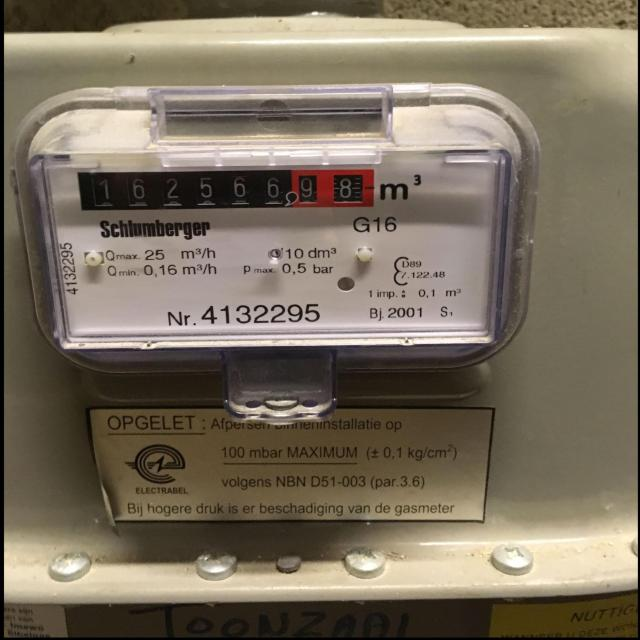gaz_meter: (32, 143, 498, 344)
indication: (77, 169, 374, 209)
